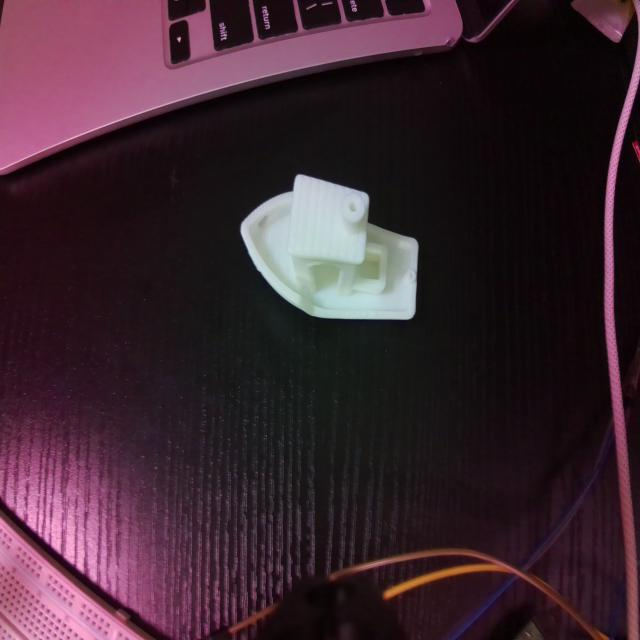ship: (239, 173, 419, 324)
